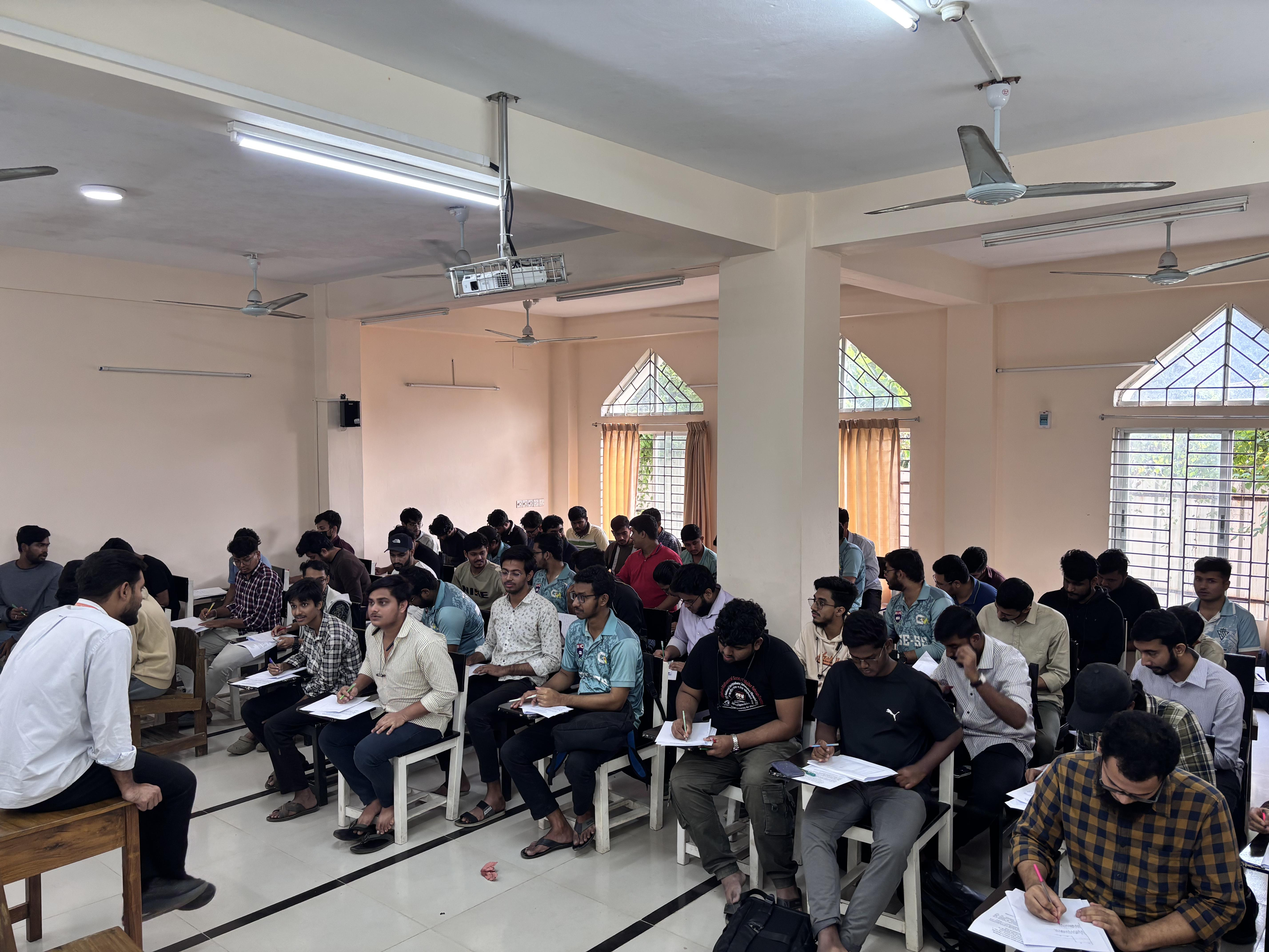copying: (198, 538, 275, 639), (3, 517, 66, 614), (384, 530, 414, 576), (679, 523, 709, 563)
hidden_communication: (608, 511, 639, 570)
invigilator: (11, 549, 208, 927)
no_cheating: (1001, 704, 1269, 952), (802, 603, 924, 888), (670, 595, 794, 838), (334, 578, 434, 758), (549, 567, 628, 750), (930, 606, 1006, 726), (259, 583, 333, 702), (485, 551, 544, 668), (1185, 541, 1246, 625), (798, 569, 858, 651), (670, 559, 732, 635), (982, 574, 1040, 650), (291, 526, 369, 577), (1052, 548, 1103, 619), (1095, 540, 1136, 604), (567, 501, 601, 540), (310, 509, 351, 540), (425, 510, 457, 547)
side_talking: (1123, 606, 1217, 711), (876, 545, 941, 653), (623, 511, 666, 587), (929, 557, 981, 605), (527, 528, 568, 580), (457, 535, 497, 587), (400, 504, 425, 547)
